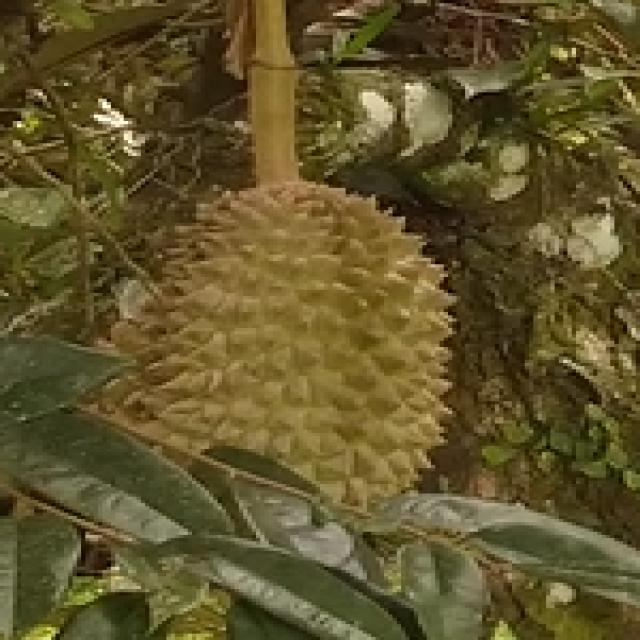mature: (84, 170, 460, 530)
